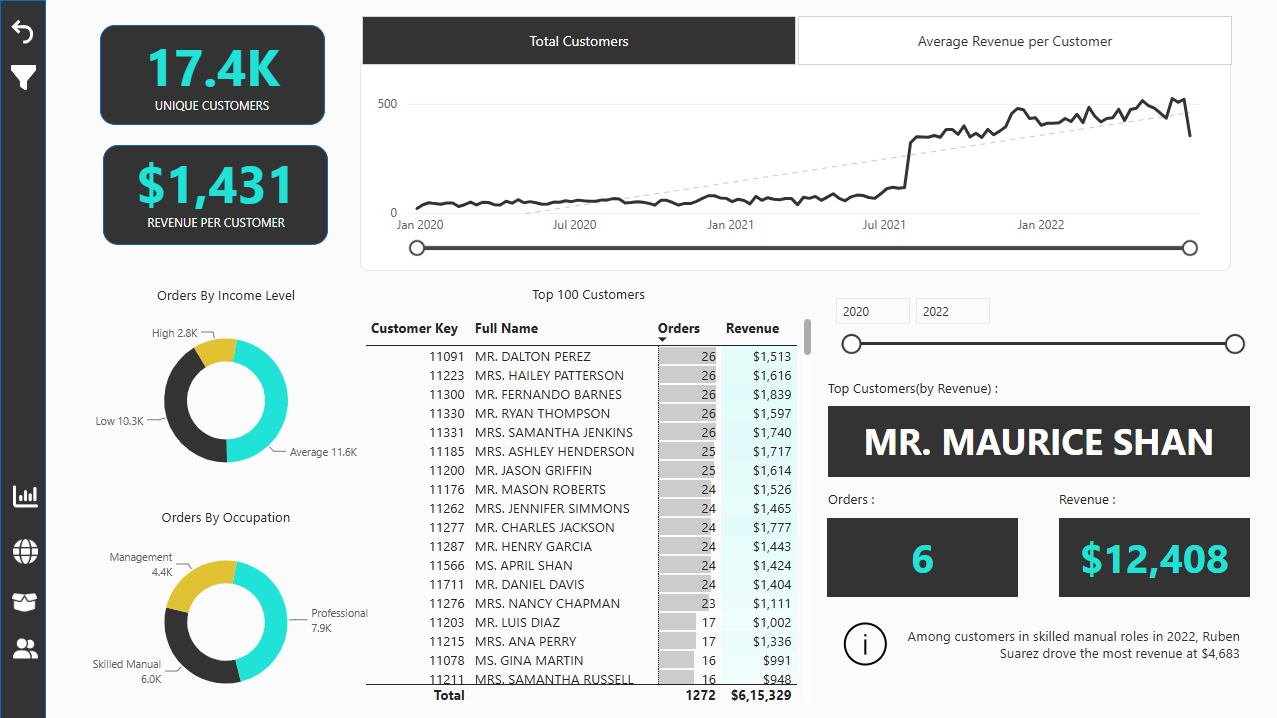

Layout of this report page (visuals, bound fields, positions):
{"tool":"powerbi","page":{"name":"Customer Detail","canvas":[1280,720],"ordinal":3},"visuals":[{"type":"shape","title":"Left Nav Background","box":[0,0,46.3,2132.3],"z":0},{"type":"card","fields":{"Values":["Measures Table.Total Customers"]},"box":[106.6,13.9,211.5,118.9],"z":0,"group":"g3"},{"type":"shape","box":[100.5,24.7,225,100],"z":0,"group":"g2"},{"type":"group","id":"g1","title":"KPI's","box":[91.2,13.9,249.7,231.9],"z":1000},{"type":"group","id":"g2","title":"KPI's Background","box":[100.5,24.7,228.1,220.4],"z":1000,"group":"g1"},{"type":"card","fields":{"Values":["Measures Table.Average Revenue per Customer"]},"box":[91.2,135.9,250.1,109.6],"z":1000,"group":"g3"},{"type":"shape","box":[103.6,145.1,225,100],"z":1000,"group":"g2"},{"type":"group","id":"g3","title":"KPI's Value","box":[91.2,13.9,250.1,231.6],"z":2000,"group":"g1"},{"type":"card","fields":{"Values":["Measures Table.Full Name (Customer Detail)"]},"box":[828.2,406.1,422.2,71.2],"z":2000},{"type":"lineChart","title":"Weekly Customers","fields":{"Category":["Calendar Lookup.Date Hierarchy.Start of year","Calendar Lookup.Date Hierarchy.Start of month","Calendar Lookup.Date Hierarchy.Start of week","Calendar Lookup.Date Hierarchy.Date"],"Y":["Measures Table.Total Customers"]},"box":[359.9,58.3,870.7,212.9],"z":3000},{"type":"donutChart","title":"Orders By Income Level","fields":{"Category":["Customer Lookup.Income Level"],"Y":["Measures Table.Total Orders"]},"box":[67.6,271.5,316.6,226.5],"z":4000},{"type":"tableEx","title":"Top 100 Customers","fields":{"Values":["Customer Lookup.CustomerKey","Customer Lookup. Full Name","Measures Table.Total Orders","Measures Table.Total Revenue"]},"box":[349.3,270.8,478.3,449.2],"z":5000},{"type":"textbox","box":[828.2,378.5,203.7,18.4],"z":6000},{"type":"donutChart","title":"Orders By Occupation","fields":{"Category":["Customer Lookup.Occupation"],"Y":["Measures Table.Total Orders"]},"box":[67.6,494.2,316.6,225.2],"z":7000},{"type":"card","fields":{"Values":["Measures Table.Total Orders (Customer Detail)"]},"box":[827.1,517.7,191.4,79.7],"z":8000},{"type":"card","fields":{"Values":["Measures Table.Total Revenue (Customer Detail)"]},"box":[1058.9,517.7,191.4,79.7],"z":9000},{"type":"textbox","box":[828.2,489,191.3,22.6],"z":10000},{"type":"textbox","box":[1058.9,489,176.3,22.6],"z":11000},{"type":"slicer","fields":{"Values":["Calendar Lookup.Date.Variation.Date Hierarchy.Year"]},"box":[828.2,293.4,423.1,85],"z":12000},{"type":"actionButton","box":[781.3,597.5,470.7,112.8],"z":13000},{"type":"actionButton","box":[1.5,13.9,40.1,34],"z":14000},{"type":"group","id":"g4","title":"Nav Buttons","box":[0,464.8,49.4,216.2],"z":15000},{"type":"actionButton","box":[1,520.2,49,63],"z":15000,"group":"g4"},{"type":"actionButton","box":[3.1,47.9,40.1,58.7],"z":16000},{"type":"actionButton","box":[0,571.2,49,63],"z":16000,"group":"g4"},{"type":"slicer","fields":{"Values":["Customer Metric Selection.Customer Metric Selection"]},"box":[340.5,13.7,910.6,53.2],"z":17000},{"type":"actionButton","box":[1,616.8,49,63],"z":17000,"group":"g4"},{"type":"actionButton","box":[1,464.8,49,63],"z":18000,"group":"g4"}]}

Visuals, with their boxes on the page's 1280x720 design canvas (x1, y1, x2, y2). These are canvas units, not pixel positions in the 1277x718 screenshot, which may show the page scaled, cropped or inside an application window:
"Left Nav Background" shape: BBox(0, 0, 46, 2132)
card - Measures Table.Total Customers: BBox(107, 14, 318, 133)
shape: BBox(100, 25, 326, 125)
"KPI's" group: BBox(91, 14, 341, 246)
"KPI's Background" group: BBox(100, 25, 329, 245)
card - Measures Table.Average Revenue per Customer: BBox(91, 136, 341, 246)
shape: BBox(104, 145, 329, 245)
"KPI's Value" group: BBox(91, 14, 341, 246)
card - Measures Table.Full Name (Customer Detail): BBox(828, 406, 1250, 477)
"Weekly Customers" lineChart: BBox(360, 58, 1231, 271)
"Orders By Income Level" donutChart: BBox(68, 272, 384, 498)
"Top 100 Customers" tableEx: BBox(349, 271, 828, 720)
textbox: BBox(828, 378, 1032, 397)
"Orders By Occupation" donutChart: BBox(68, 494, 384, 719)
card - Measures Table.Total Orders (Customer Detail): BBox(827, 518, 1018, 597)
card - Measures Table.Total Revenue (Customer Detail): BBox(1059, 518, 1250, 597)
textbox: BBox(828, 489, 1020, 512)
textbox: BBox(1059, 489, 1235, 512)
slicer - Calendar Lookup.Date.Variation.Date Hierarchy.Year: BBox(828, 293, 1251, 378)
actionButton: BBox(781, 598, 1252, 710)
actionButton: BBox(2, 14, 42, 48)
"Nav Buttons" group: BBox(0, 465, 49, 681)
actionButton: BBox(1, 520, 50, 583)
actionButton: BBox(3, 48, 43, 107)
actionButton: BBox(0, 571, 49, 634)
slicer - Customer Metric Selection.Customer Metric Selection: BBox(340, 14, 1251, 67)
actionButton: BBox(1, 617, 50, 680)
actionButton: BBox(1, 465, 50, 528)
